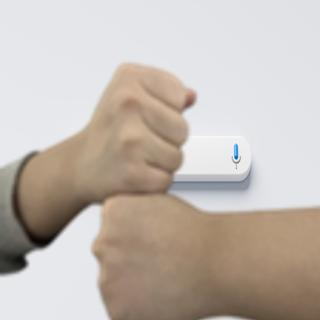CAREFUL: (45, 62, 286, 315)
